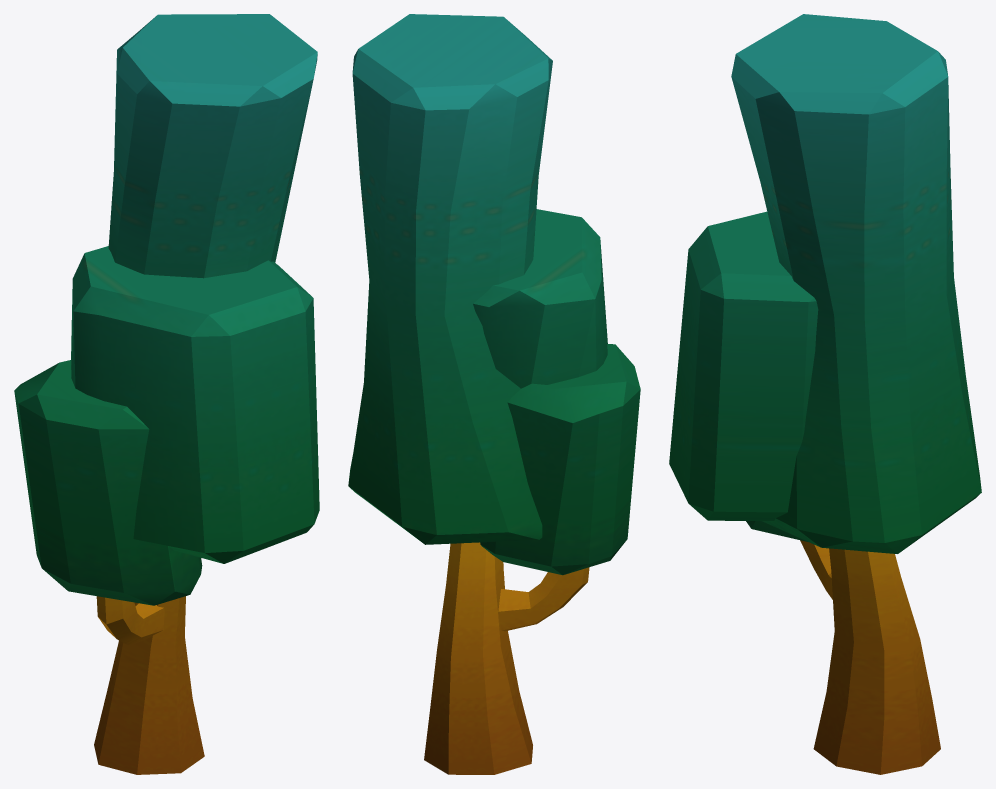
File: Tree02.fbx
The picture shows the model from 3 angles, left to right: view 1: azimuth 30°, elevation 25°; view 2: azimuth 150°, elevation 25°; view 3: azimuth 270°, elevation 25°; orthographic projection. The views are drawn at different scales.
Visible parts, largest first — view 1: EA04_Trees_Stoolids_01b; view 2: EA04_Trees_Stoolids_01b; view 3: EA04_Trees_Stoolids_01b.
Boxes of the visible parts, x1,y1,x2,y2 form: EA04_Trees_Stoolids_01b: [14, 14, 319, 774]; EA04_Trees_Stoolids_01b: [348, 14, 640, 774]; EA04_Trees_Stoolids_01b: [669, 14, 981, 774].
Bounding box in the file's own units: 549 × 1347 × 532.
Materials: 1 (1 with a texture image).
